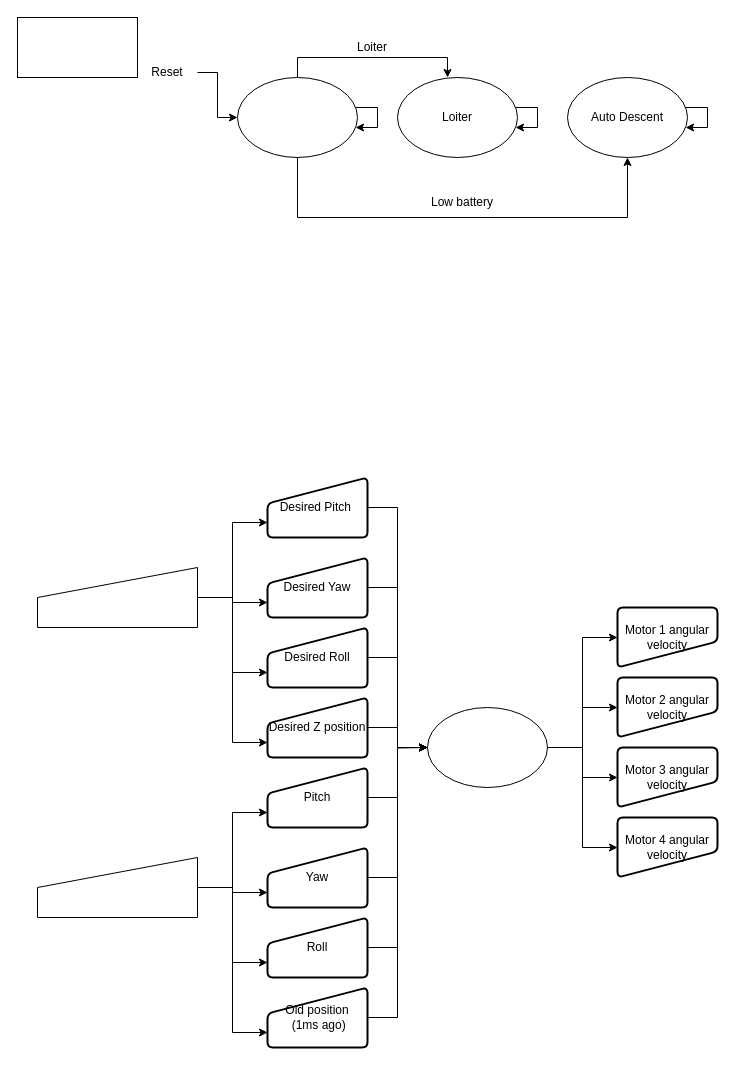
Image size: 736x1066. Some labels were removed from this diagram. Each missing label, with the box of its shape:
Accelerometer/ Gyro: (36, 856, 198, 918)
Controller Input: (36, 566, 198, 628)
Input: Low Battery Input: manual control: (16, 16, 138, 78)
Manual Control: (236, 76, 358, 158)
PID Model: (426, 706, 548, 788)
